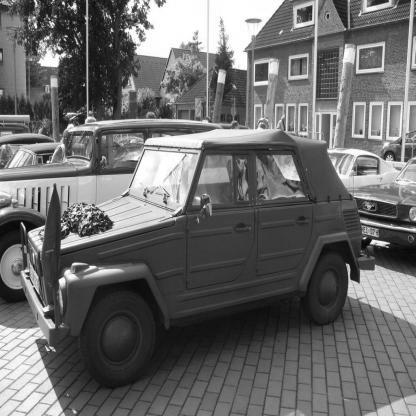car: (16, 108, 376, 376)
